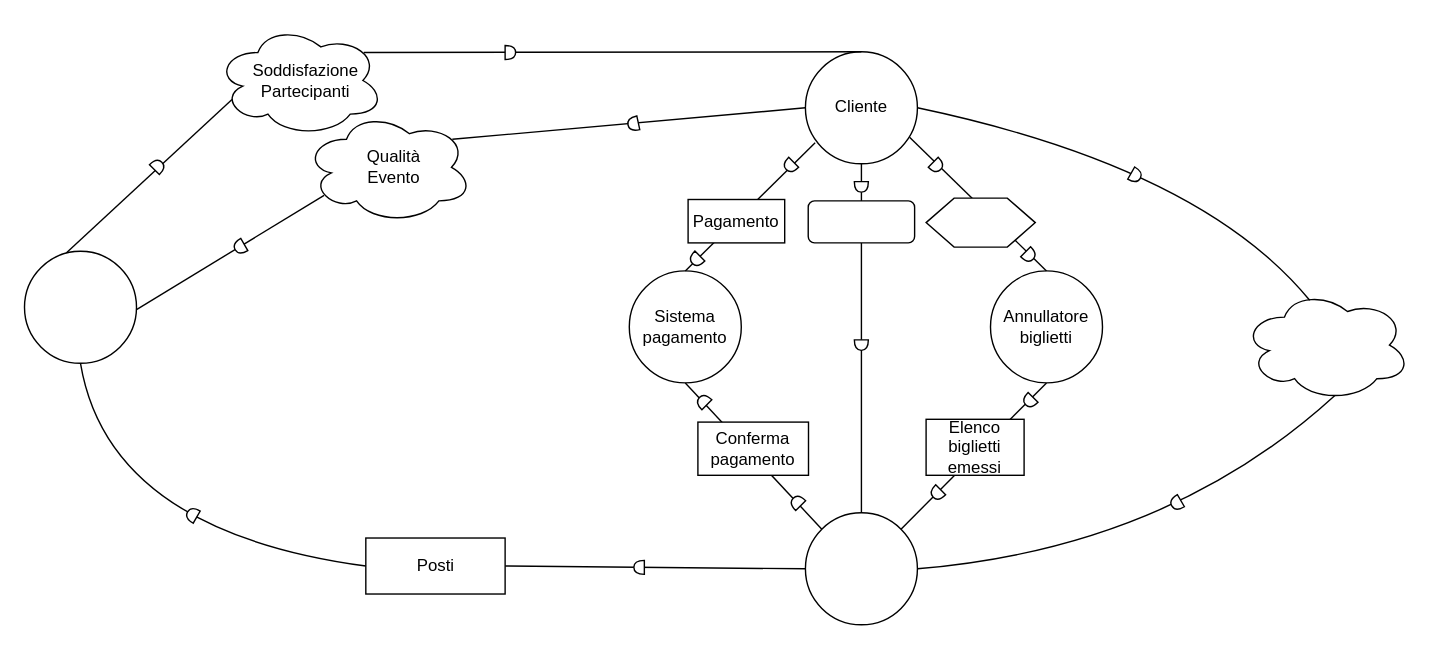
This 1435x650 diagram has some shape labels left out. The box of each missing label's shape, as (x1, y1, x2, y2) in pixels:
Acquisto biglietti: (807, 200, 915, 243)
Biglietteria: (804, 511, 917, 625)
Event Manager: (23, 250, 136, 363)
Ingresso: (925, 197, 1035, 247)
Qualità del Servizio: (1241, 288, 1410, 401)
